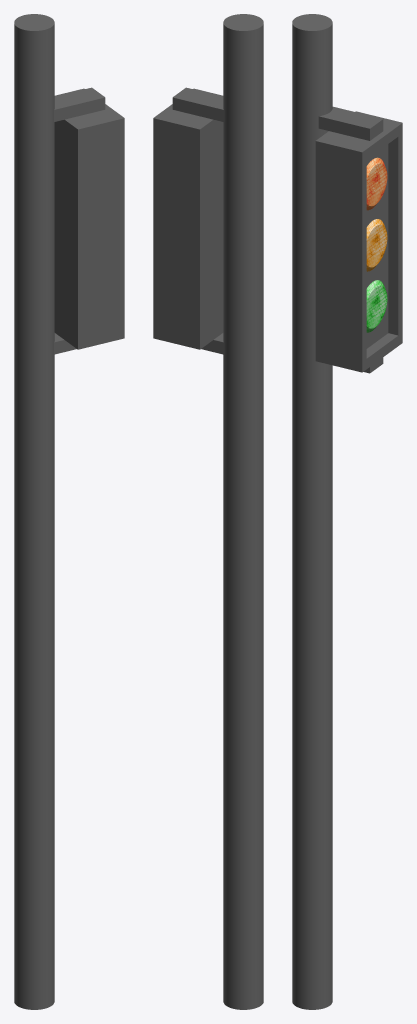
Rendered from TrafficLight.fbx.
The picture shows the model from 3 angles, left to right: view 1: azimuth 30°, elevation 25°; view 2: azimuth 150°, elevation 25°; view 3: azimuth 330°, elevation 25°; orthographic projection.
Visible parts, largest first — view 1: TrafficLight; view 2: TrafficLight; view 3: TrafficLight.
Boxes of the visible parts, left/top/right/bottom form: TrafficLight: left=14, top=14, right=124, bottom=1009; TrafficLight: left=153, top=14, right=263, bottom=1009; TrafficLight: left=292, top=14, right=402, bottom=1009.
Size of what is drawn, in the model's own units: 31.88 by 340 by 25.5.
